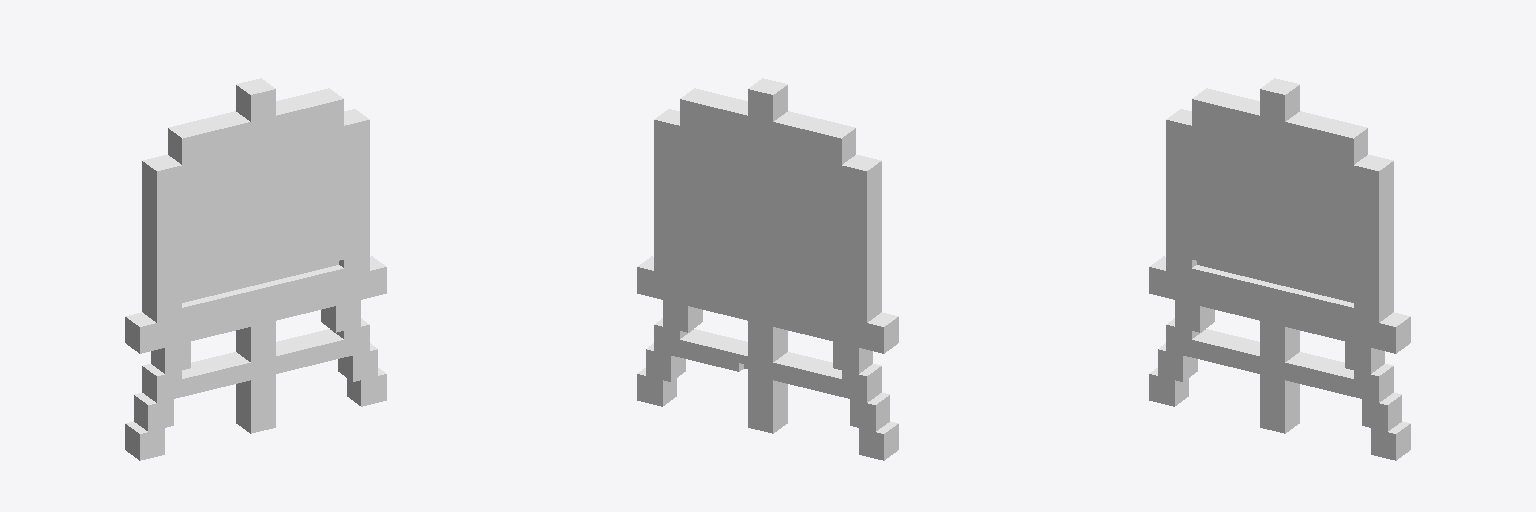
The model's file is lienzo.obj.
3 renders of one model, left to right at view 1: azimuth 30°, elevation 25°; view 2: azimuth 150°, elevation 25°; view 3: azimuth 330°, elevation 25°, orthographic.
Visible parts, largest first — view 1: object 1; view 2: object 1; view 3: object 1.
Boxes of the visible parts, x1,y1,x2,y2 form: object 1: [125, 78, 386, 460]; object 1: [637, 78, 898, 460]; object 1: [1149, 78, 1410, 460].
Size of the model in its own units: 2.9 by 3.8 by 0.3.